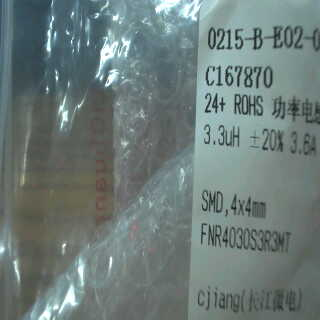3.3uH: (202, 120, 241, 153)
